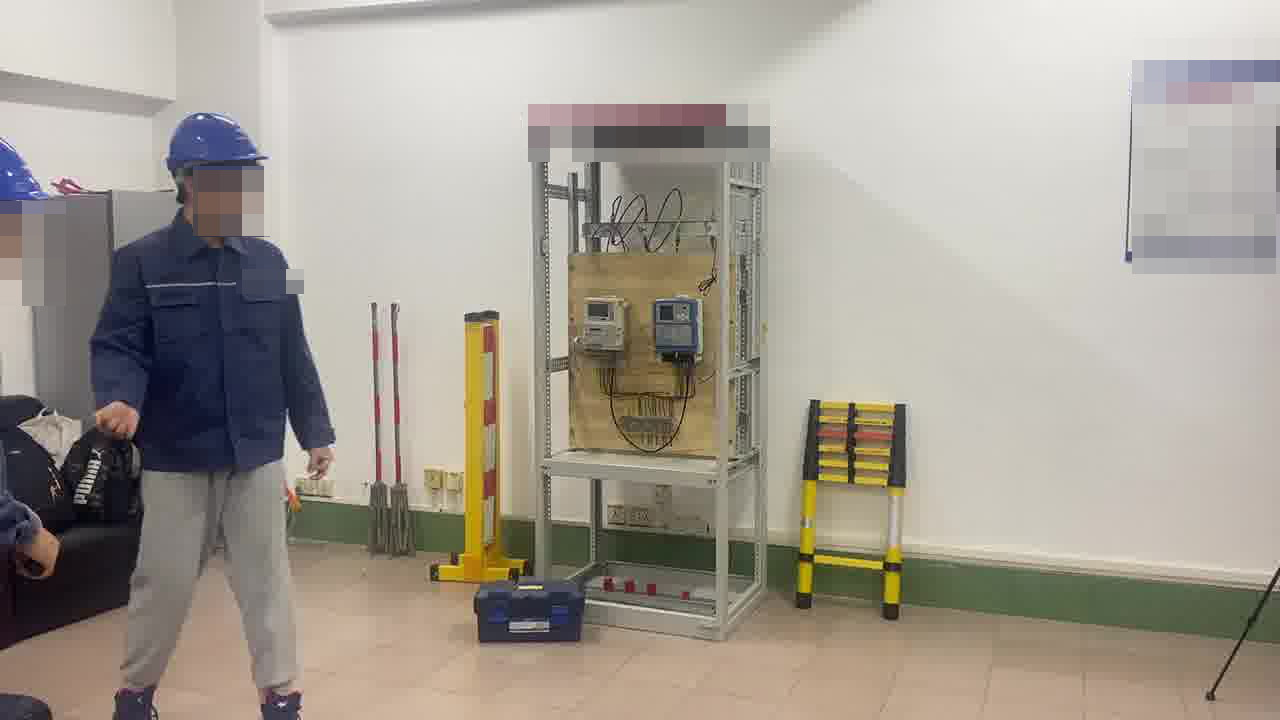downcloth: (106, 457, 313, 697)
halt: (164, 113, 268, 236), (1, 138, 51, 289)
hand: (11, 517, 58, 583), (95, 399, 140, 443), (298, 446, 333, 475)
noear: (175, 170, 226, 215)
person: (73, 109, 343, 710)
upsuit: (90, 222, 336, 477)
